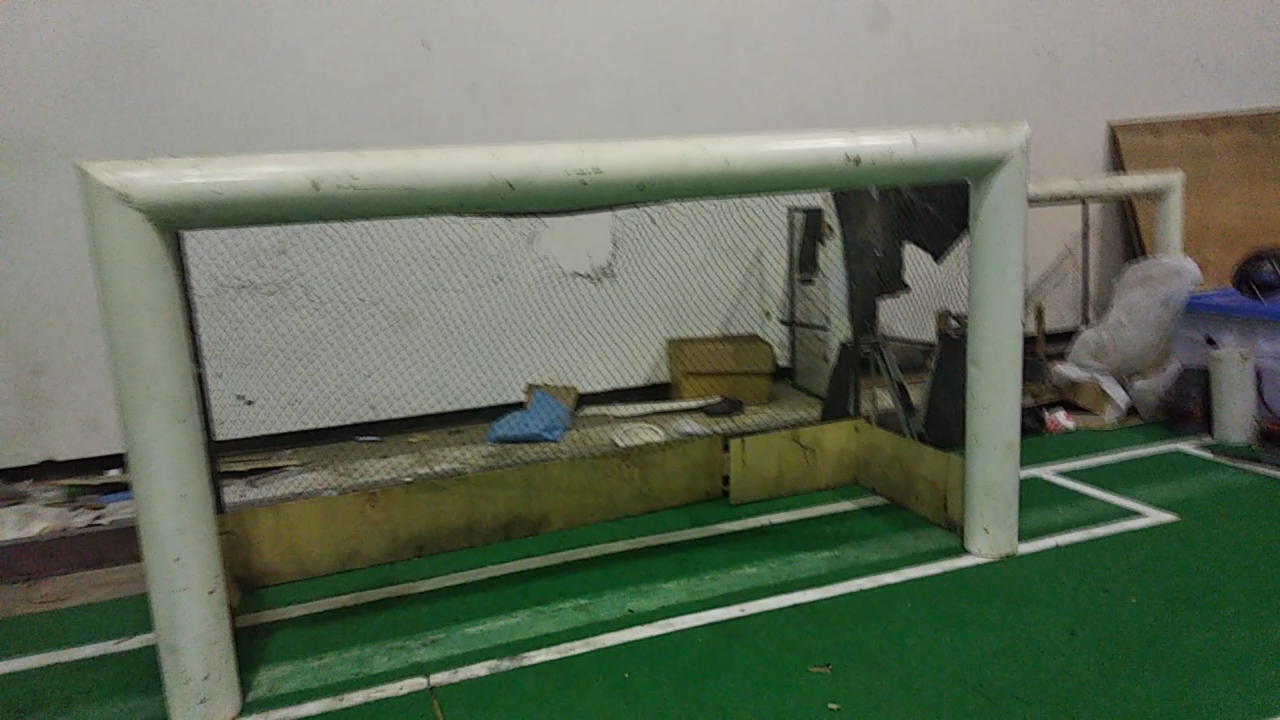gawang: (60, 116, 1046, 716)
